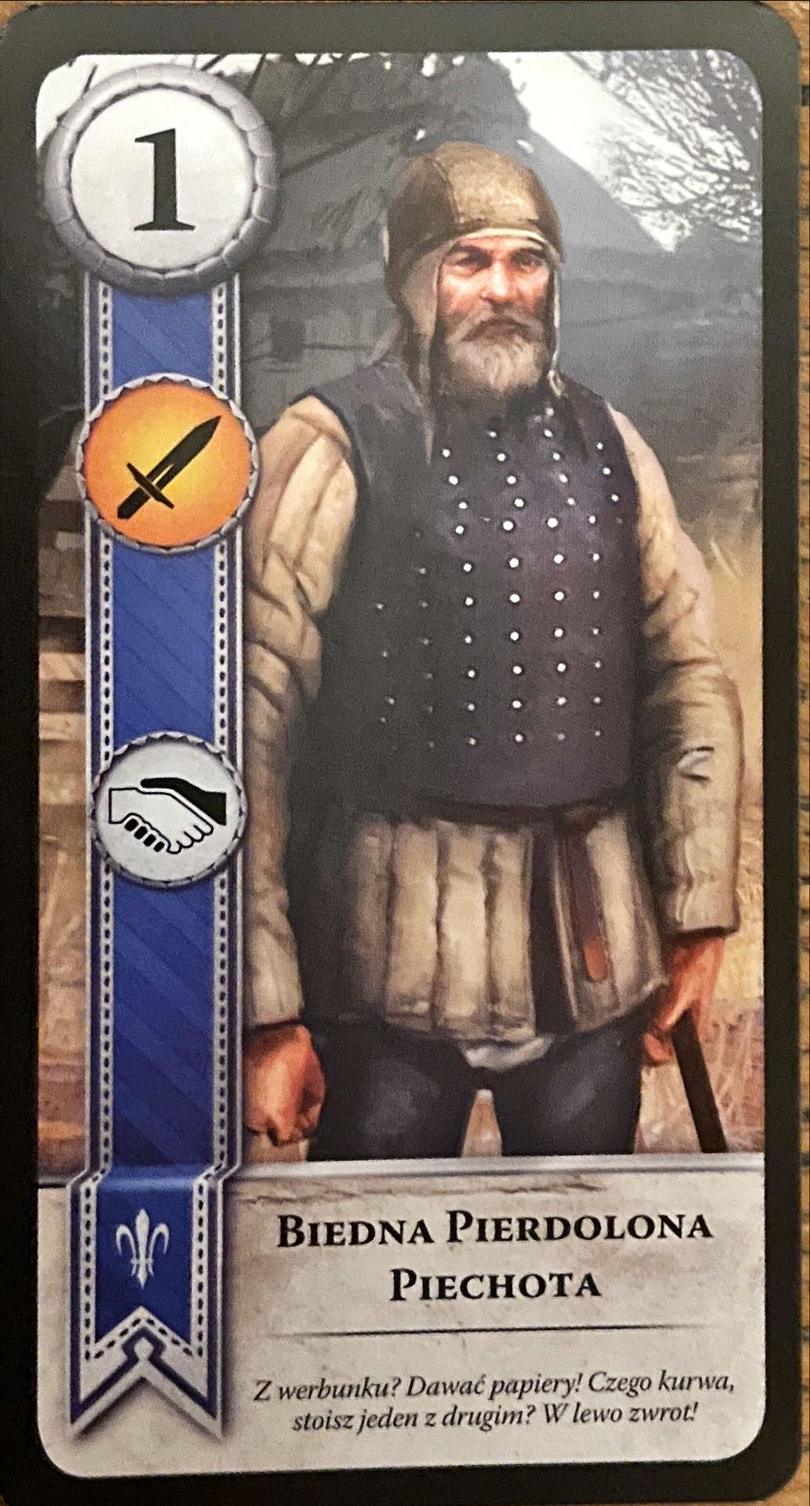1: (44, 67, 281, 296)
miecz: (78, 373, 262, 555)
wiez: (80, 728, 249, 895)
